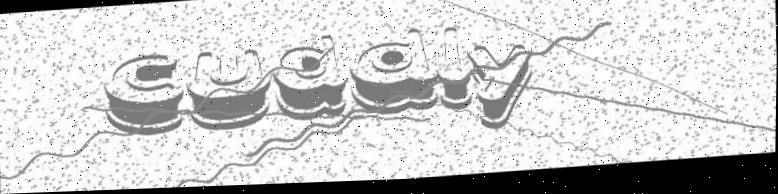c: (101, 53, 186, 139)
d: (347, 30, 441, 120), (271, 35, 348, 124)
l: (437, 28, 475, 114)
u: (185, 48, 274, 135)
y: (467, 45, 535, 135)
